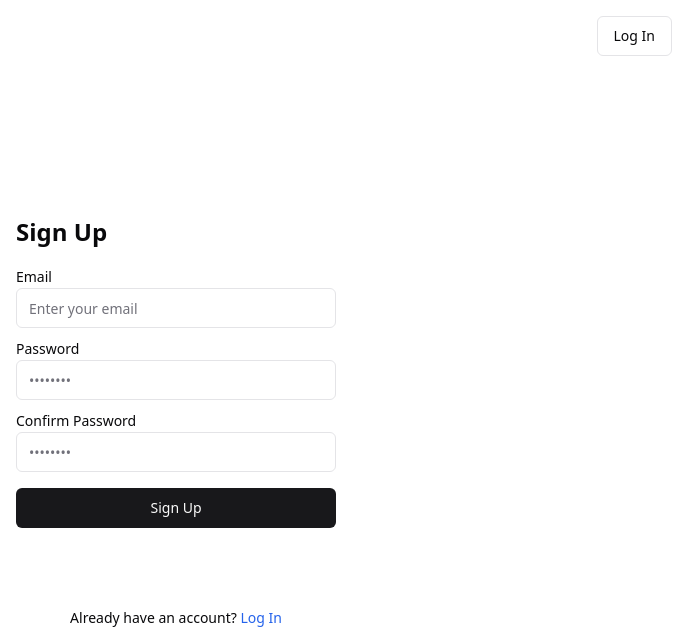
Test: Navigation Between Sign-in and Sign-up Pages › navigates from Sign-up to Sign-in via description link
Step 1. Click the link with test id "login-link" → coordinates (261, 618), box [240,608,282,627]
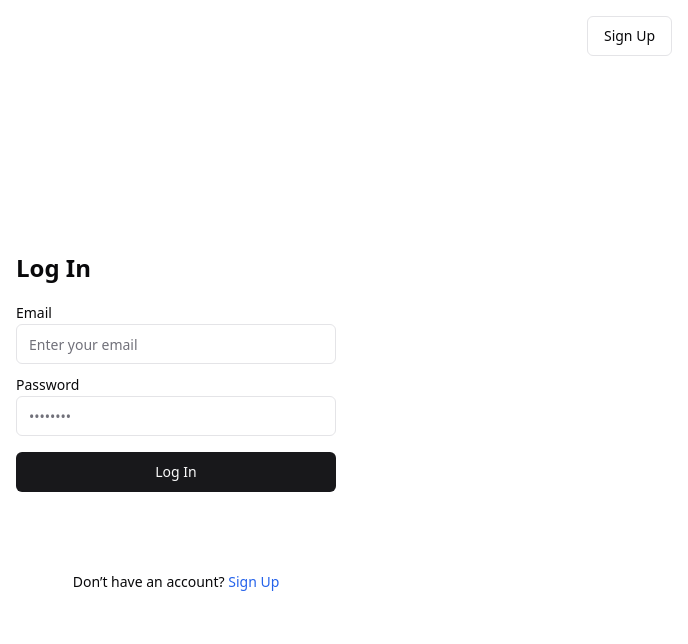
Check: the heading "Log In" is shown, box [16,251,91,284]
